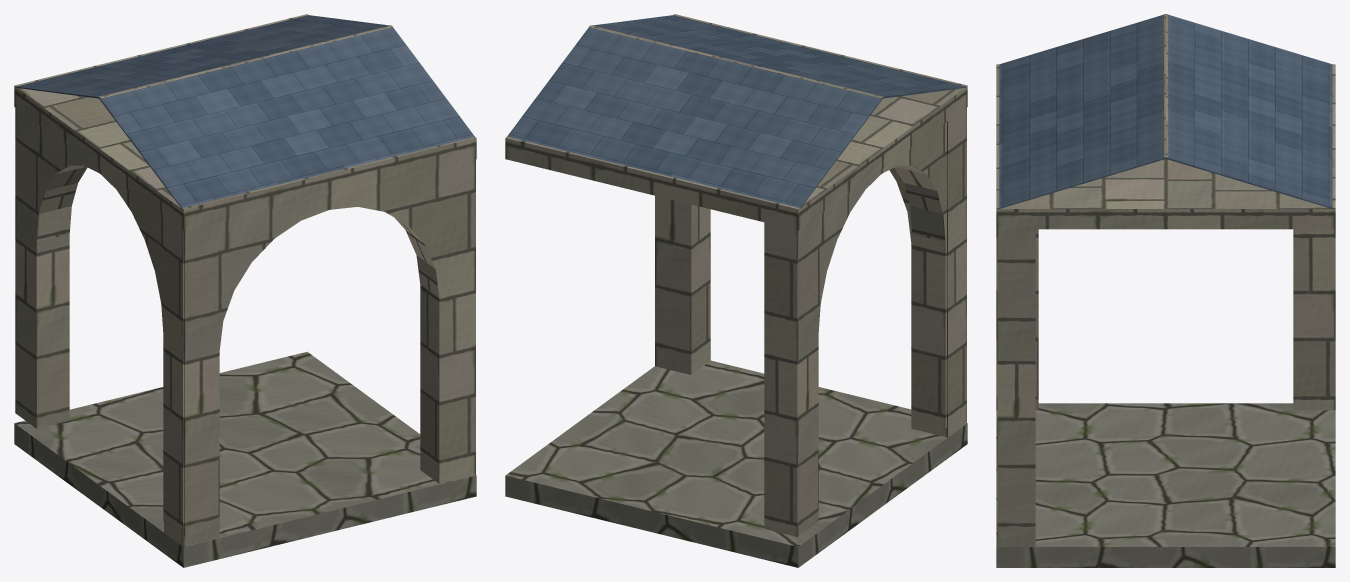
File: Furn_Arcade_Corner.fbx
3 renders of one model, left to right at view 1: azimuth 30°, elevation 25°; view 2: azimuth 150°, elevation 25°; view 3: azimuth 270°, elevation 25°, orthographic.
Parts seen in each view (by area): view 1: Furn_Arcade_Corner_Mesh; view 2: Furn_Arcade_Corner_Mesh; view 3: Furn_Arcade_Corner_Mesh.
Boxes of the visible parts, x1,y1,x2,y2 form: Furn_Arcade_Corner_Mesh: (14,14,476,567); Furn_Arcade_Corner_Mesh: (505,14,967,567); Furn_Arcade_Corner_Mesh: (996,14,1335,567).
Bounding box in the file's own units: 3 × 4 × 3.
